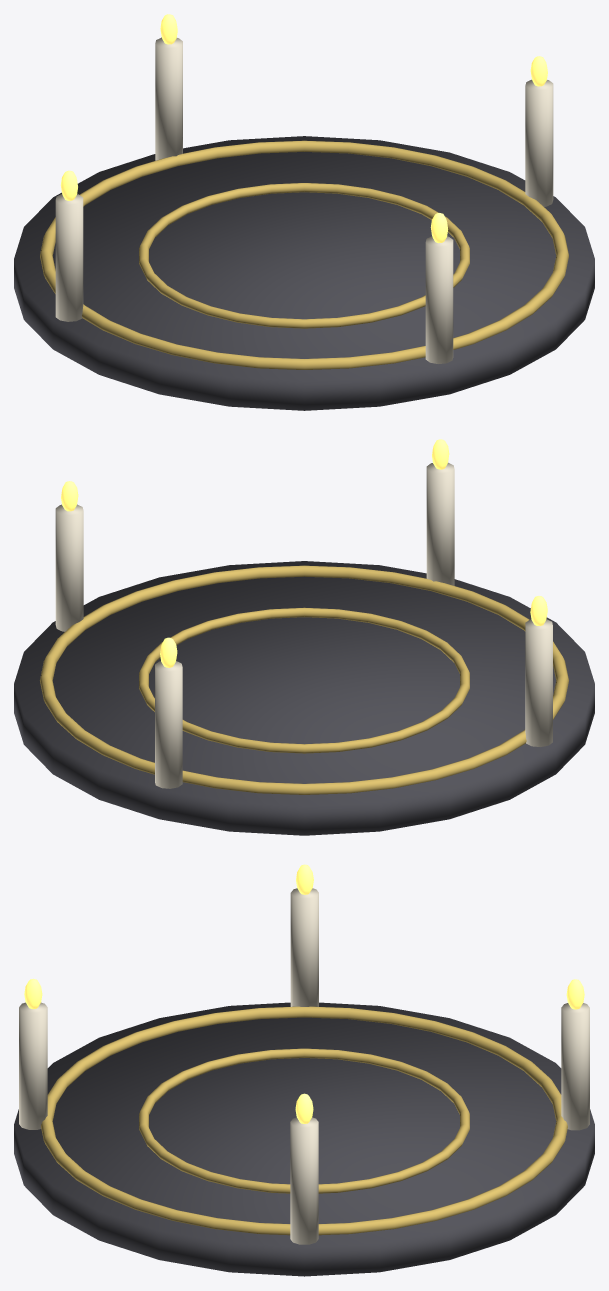
Rendered from academy_misc_ritual_circle_stand.glb.
3 renders of one model, top to bottom at view 1: azimuth 30°, elevation 25°; view 2: azimuth 150°, elevation 25°; view 3: azimuth 270°, elevation 25°, orthographic.
Visible parts, largest first — view 1: GD_academy_misc_ritual_circle_stand__m0, GD_academy_misc_ritual_circle_stand__m1, GD_academy_misc_ritual_circle_stand__m3, GD_academy_misc_ritual_circle_stand__m2; view 2: GD_academy_misc_ritual_circle_stand__m0, GD_academy_misc_ritual_circle_stand__m1, GD_academy_misc_ritual_circle_stand__m3, GD_academy_misc_ritual_circle_stand__m2; view 3: GD_academy_misc_ritual_circle_stand__m0, GD_academy_misc_ritual_circle_stand__m1, GD_academy_misc_ritual_circle_stand__m3, GD_academy_misc_ritual_circle_stand__m2.
Boxes of the visible parts, x1=… form: GD_academy_misc_ritual_circle_stand__m0: x1=14, y1=136, x2=594, y2=410; GD_academy_misc_ritual_circle_stand__m1: x1=40, y1=140, x2=568, y2=369; GD_academy_misc_ritual_circle_stand__m3: x1=55, y1=37, x2=553, y2=363; GD_academy_misc_ritual_circle_stand__m2: x1=60, y1=14, x2=547, y2=243; GD_academy_misc_ritual_circle_stand__m0: x1=14, y1=561, x2=594, y2=835; GD_academy_misc_ritual_circle_stand__m1: x1=40, y1=565, x2=568, y2=794; GD_academy_misc_ritual_circle_stand__m3: x1=55, y1=462, x2=552, y2=788; GD_academy_misc_ritual_circle_stand__m2: x1=61, y1=439, x2=547, y2=667; GD_academy_misc_ritual_circle_stand__m0: x1=14, y1=1002, x2=594, y2=1276; GD_academy_misc_ritual_circle_stand__m1: x1=41, y1=1006, x2=567, y2=1235; GD_academy_misc_ritual_circle_stand__m3: x1=19, y1=888, x2=589, y2=1244; GD_academy_misc_ritual_circle_stand__m2: x1=24, y1=864, x2=584, y2=1123.
Bounding box in the file's own units: 0.9 × 0.2986 × 0.9.
